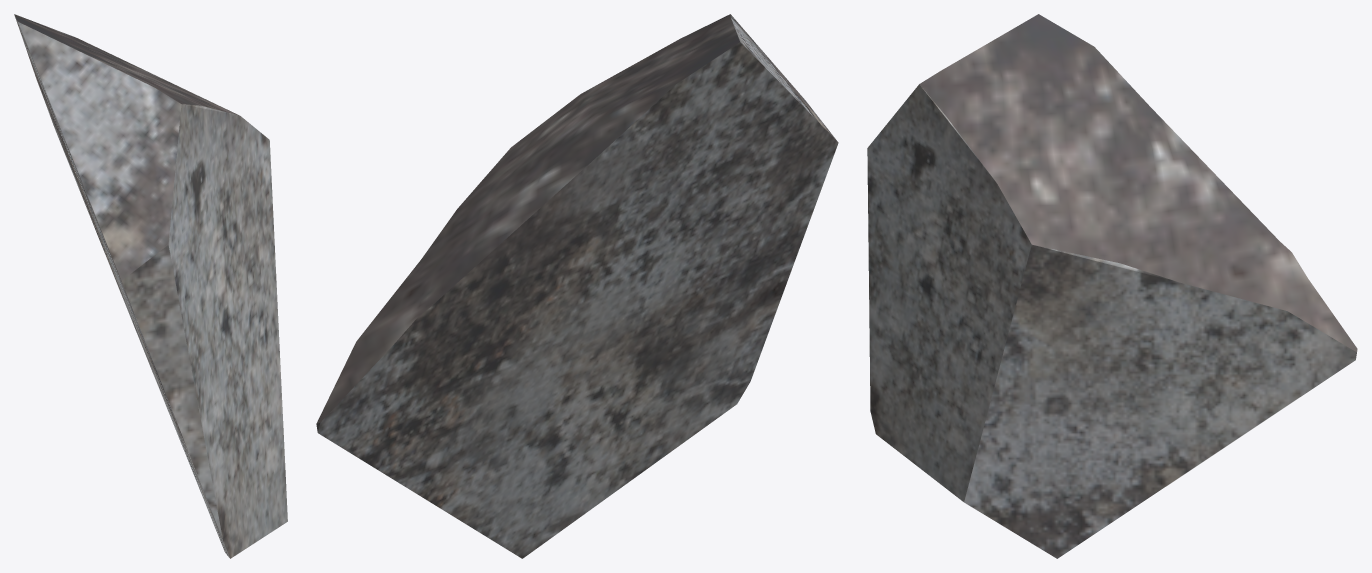
File: Asteroid_Large_001_02_010_03_008.fbx
The picture shows the model from 3 angles, left to right: view 1: azimuth 30°, elevation 25°; view 2: azimuth 150°, elevation 25°; view 3: azimuth 270°, elevation 25°; orthographic projection. The views are drawn at different scales.
Visible parts, largest first — view 1: Asteroid_Large_001_02_010_03_008; view 2: Asteroid_Large_001_02_010_03_008; view 3: Asteroid_Large_001_02_010_03_008.
Part boxes in pixels (x1,y1,x2,y2): Asteroid_Large_001_02_010_03_008: (14,14,287,558); Asteroid_Large_001_02_010_03_008: (316,14,838,558); Asteroid_Large_001_02_010_03_008: (867,14,1357,558).
Bounding box in the file's own units: 3.94 × 9.01 × 8.66.
